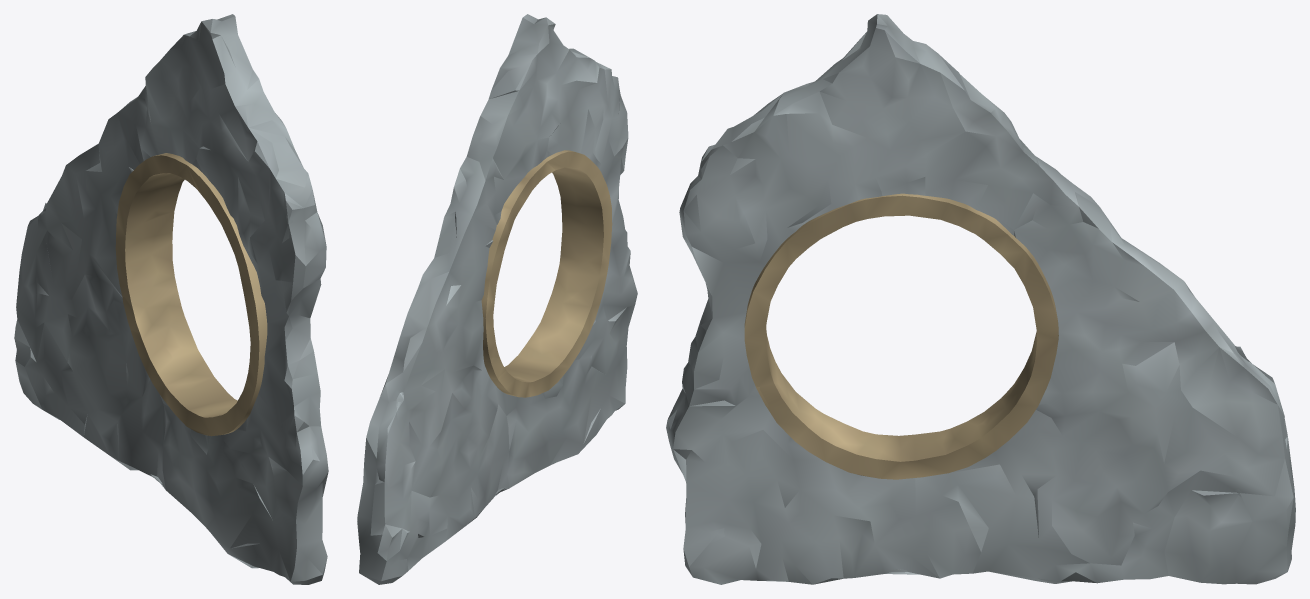
Rendered from Wall01.fbx.
3 renders of one model, left to right at view 1: azimuth 30°, elevation 25°; view 2: azimuth 150°, elevation 25°; view 3: azimuth 270°, elevation 25°, orthographic. The views are drawn at different scales.
Visible parts, largest first — view 1: Wall01; view 2: Wall01; view 3: Wall01.
Boxes of the visible parts, left/top/right/bottom form: Wall01: left=14, top=14, right=328, bottom=584; Wall01: left=357, top=14, right=637, bottom=584; Wall01: left=666, top=14, right=1295, bottom=584.
Bounding box in the file's own units: 34.92 × 357 × 360.
